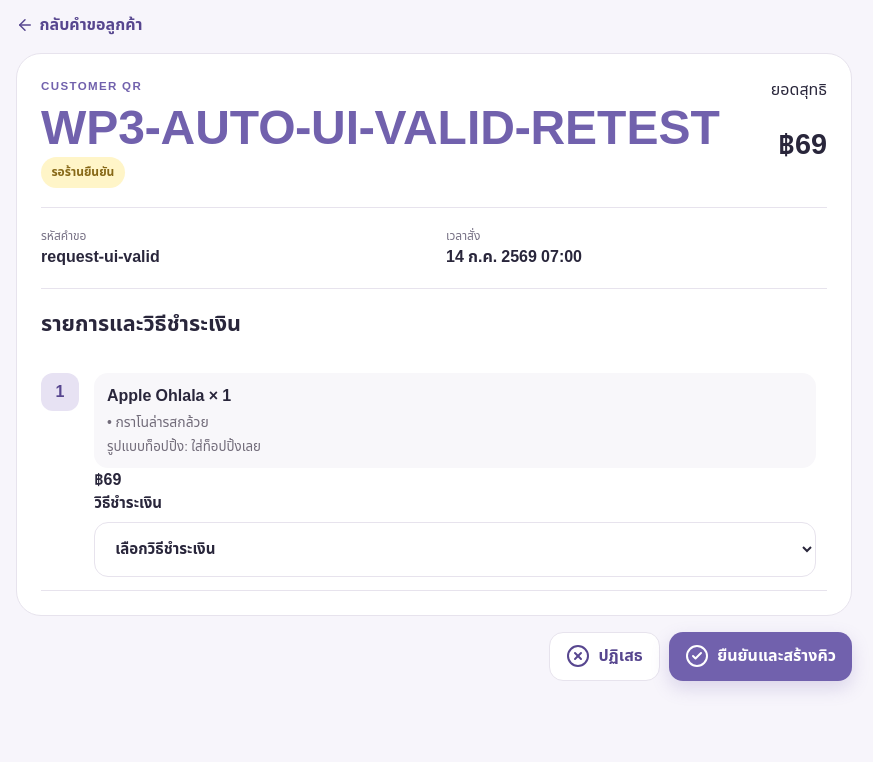
Staff Customer request confirmation UI › shows a safe mismatch result and keeps the request pending
Select "สด" in the dropdown named "วิธีชำระเงิน Apple Ohlala": (455, 550) [94,522,816,577]
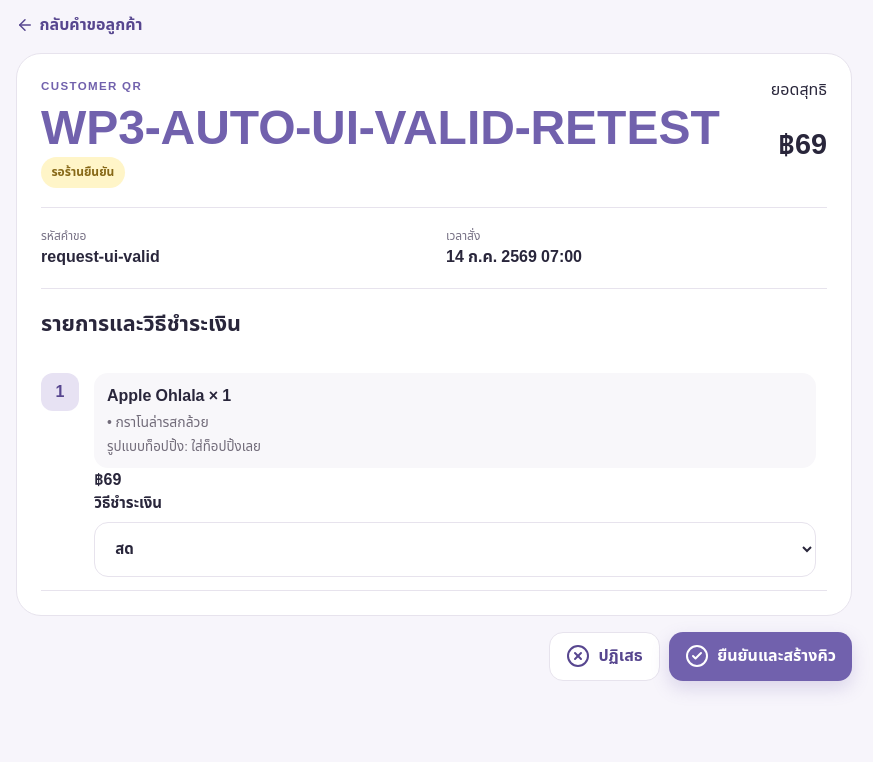
Click the button "ยืนยันและสร้างคิว": (761, 656) [669,632,852,680]
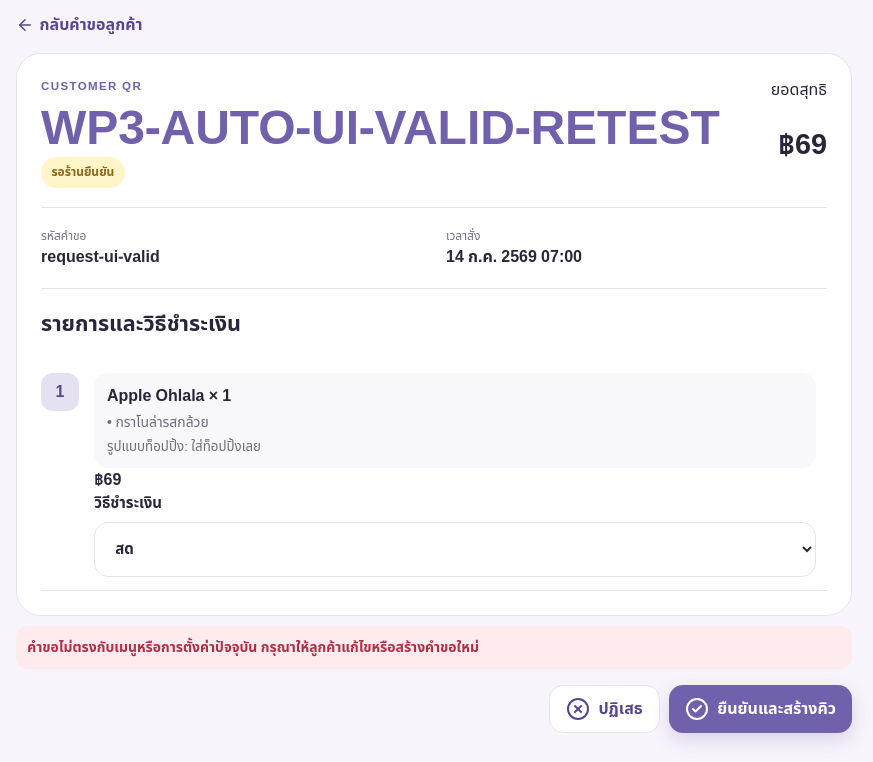
Result: the message shows "กรุณาให้ลูกค้าแก้ไขหรือสร้างคำขอใหม่" at [27,637,479,658]
